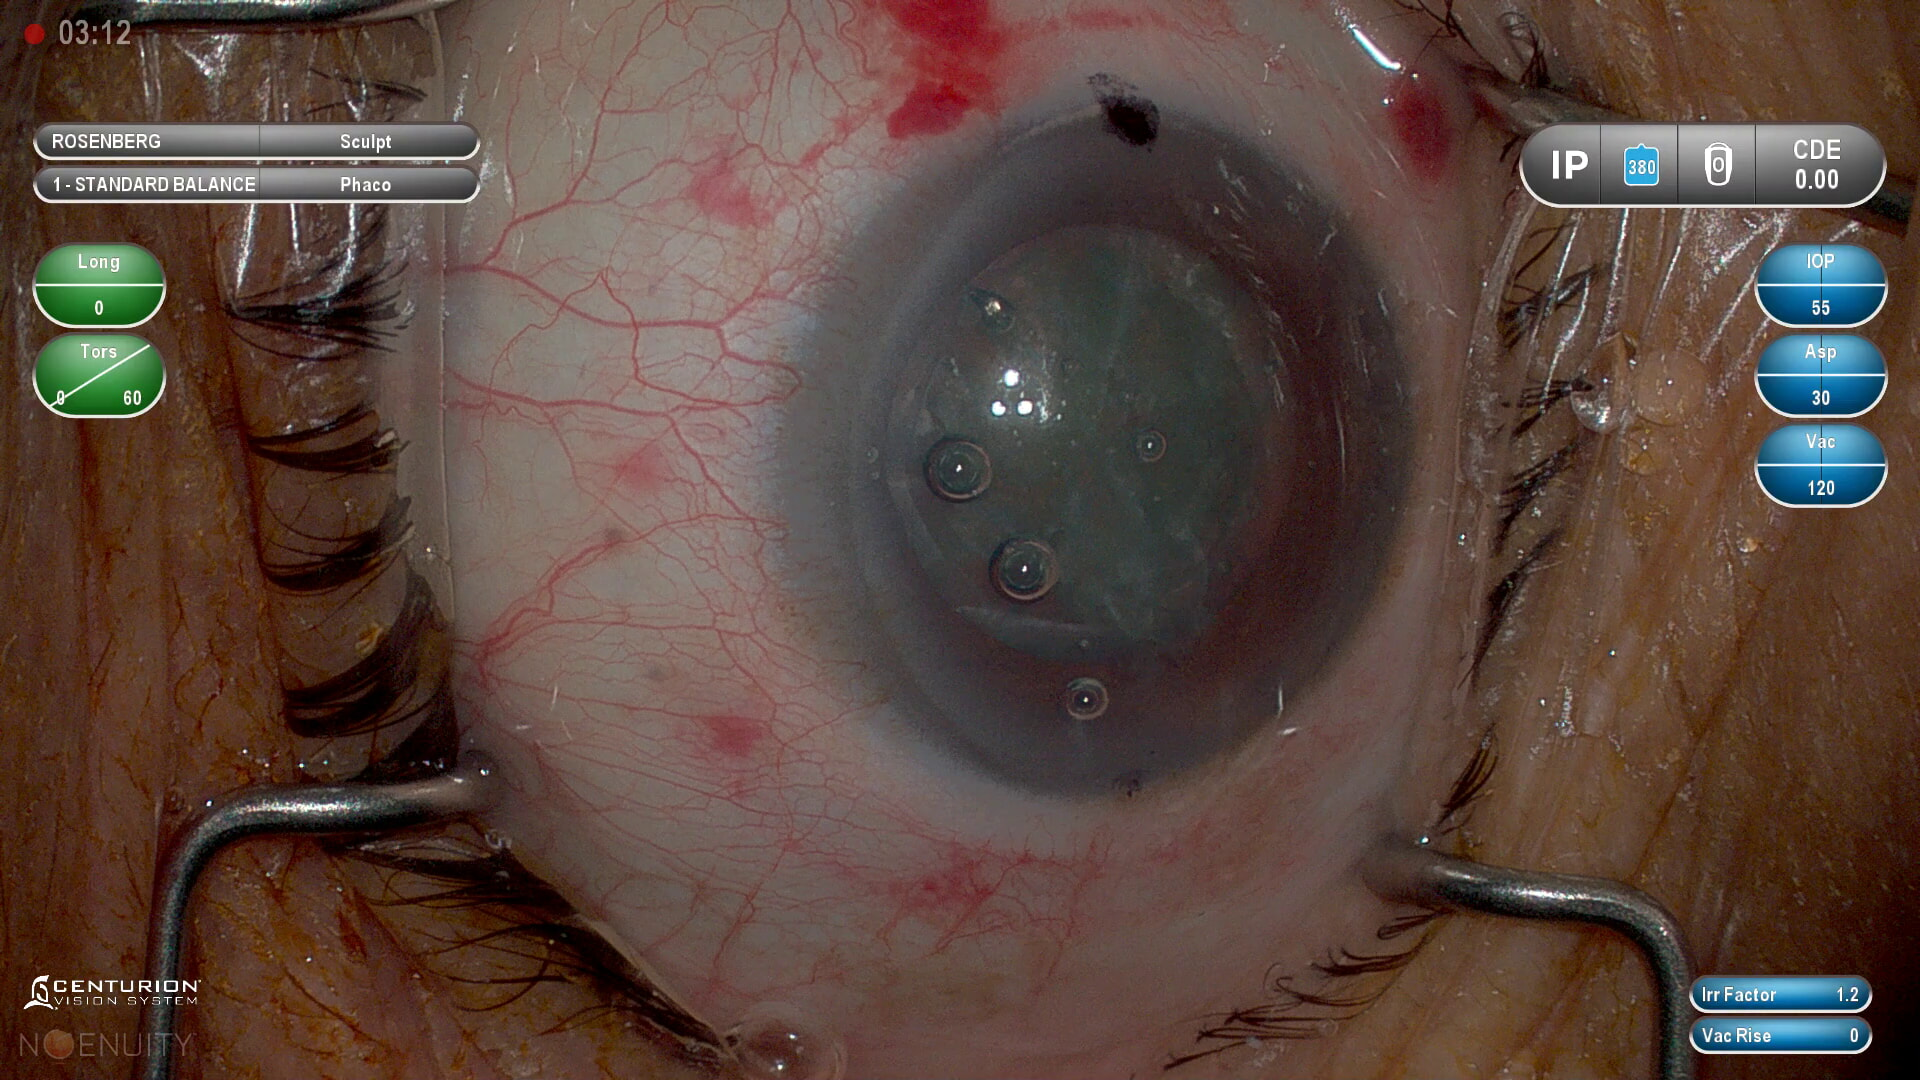iris: (838, 119, 1420, 799)
pupil: (869, 224, 1315, 663)
